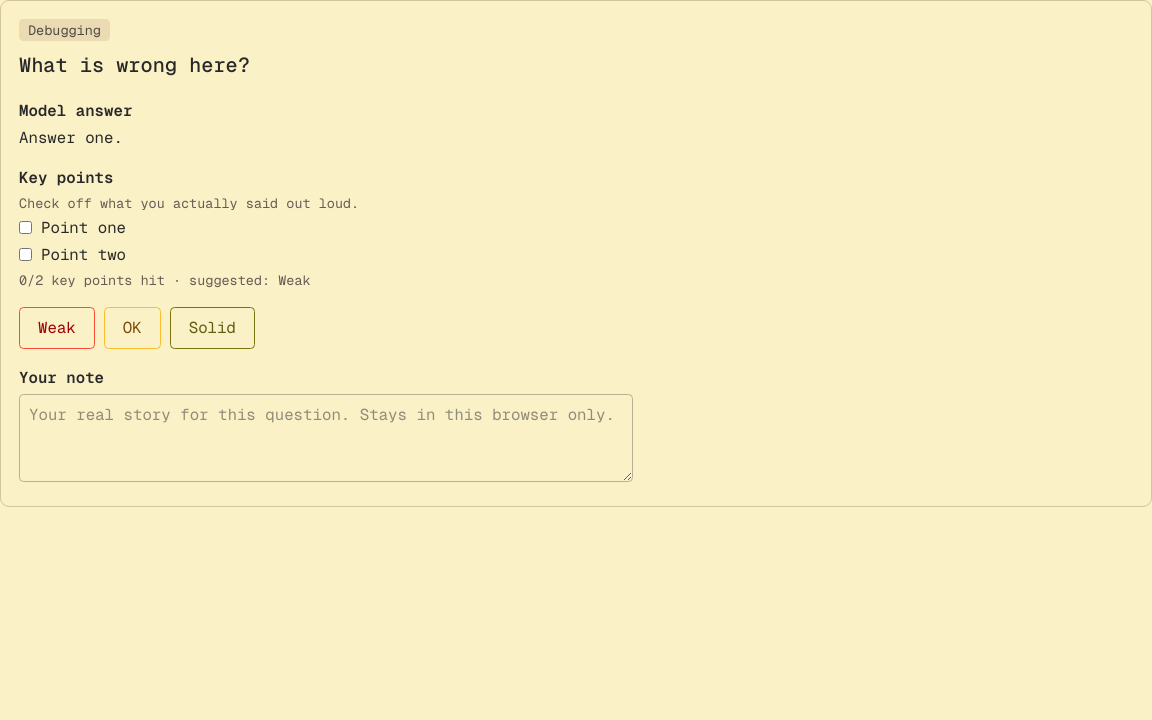
Test case: QuestionCard key points checklist › suggests a rating from checked key points
Check: the text "0/2 key points hit · suggested: Weak" is shown, box [19,271,311,289]
What coordinates should you click on to do the following:
click the checkbox labelled "Point one"
I would click on:
 (26, 228)
Its box is [19,222,32,234].
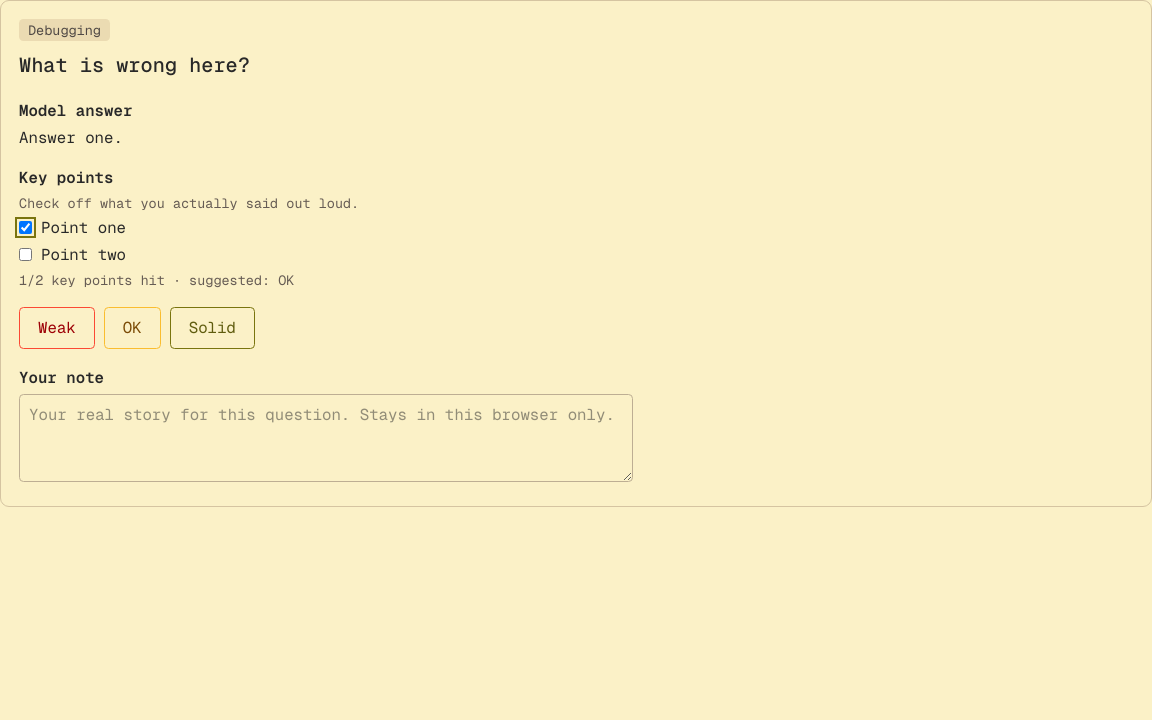
Check: the text "1/2 key points hit · suggested: OK" is shown, box [19,271,294,289]
What coordinates should you click on to do the following:
click the checkbox labelled "Point two"
I would click on:
 (26, 255)
Its box is [19,248,32,262].
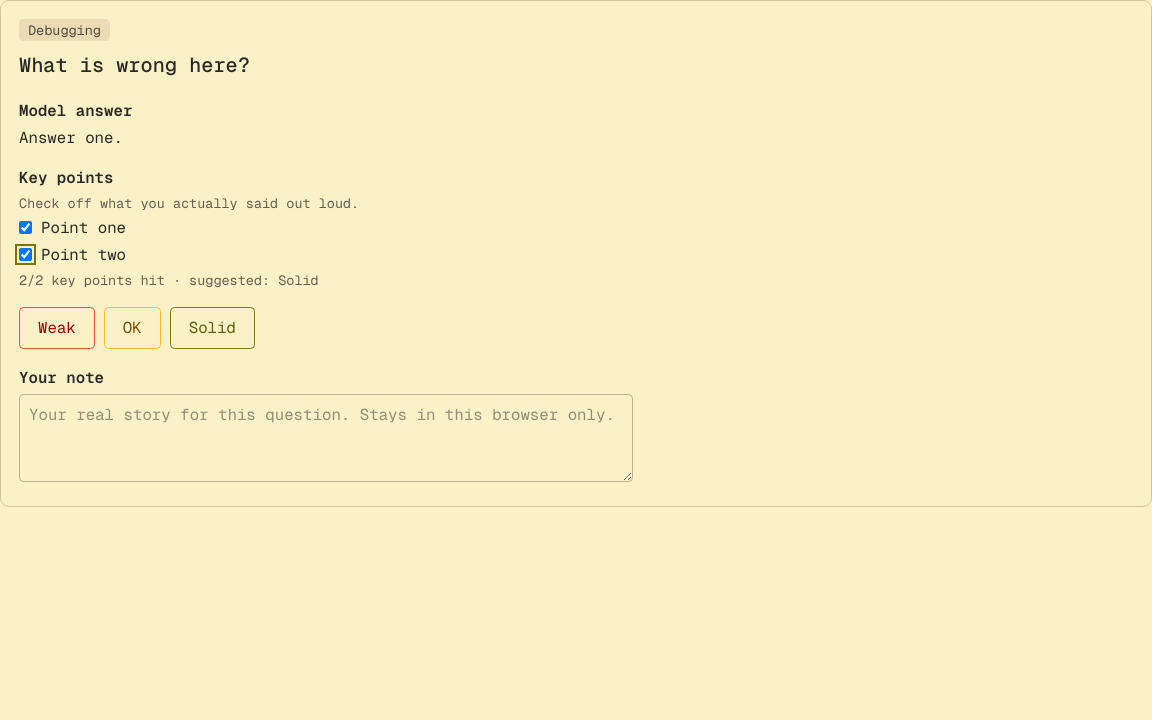
Check: the text "2/2 key points hit · suggested: Solid" is shown, box [19,271,319,289]
